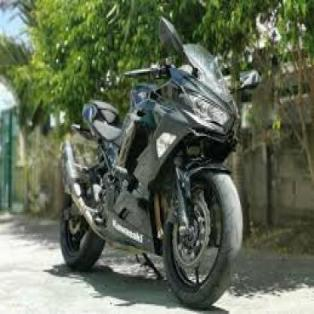Motocicleta: (55, 12, 248, 310)
